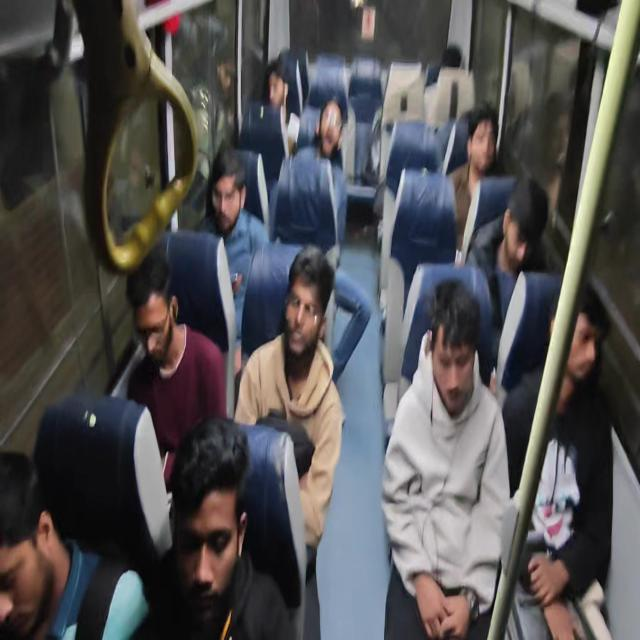person: (0, 414, 105, 640), (169, 454, 271, 640), (405, 279, 503, 443), (250, 239, 330, 415), (540, 290, 622, 424), (144, 270, 203, 408), (464, 96, 526, 223), (503, 170, 556, 284), (212, 143, 258, 257), (251, 56, 304, 152), (302, 94, 340, 172), (430, 41, 476, 96)
